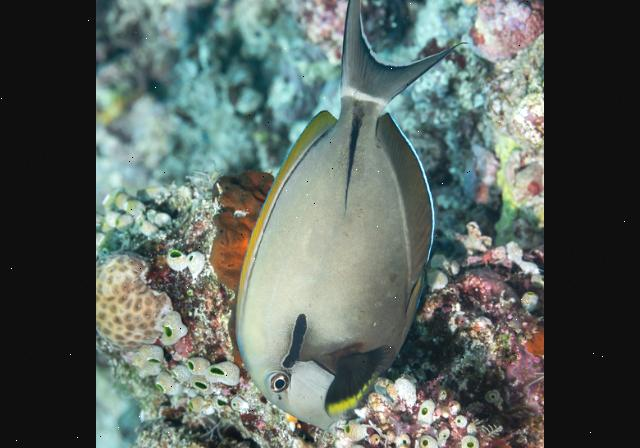Sirip Anal: (371, 110, 451, 280)
Sirip Dada: (304, 328, 412, 432)
Sirip Ekor: (331, 0, 475, 117)
Sirip Perut: (391, 272, 442, 350)
Sirip Punggung: (228, 100, 339, 337)
